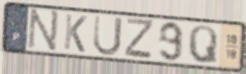9: (158, 21, 185, 63)
K: (62, 13, 88, 55)
N: (26, 7, 61, 54)
Q: (187, 24, 219, 67)
U: (92, 14, 124, 58)
Z: (124, 17, 155, 61)
